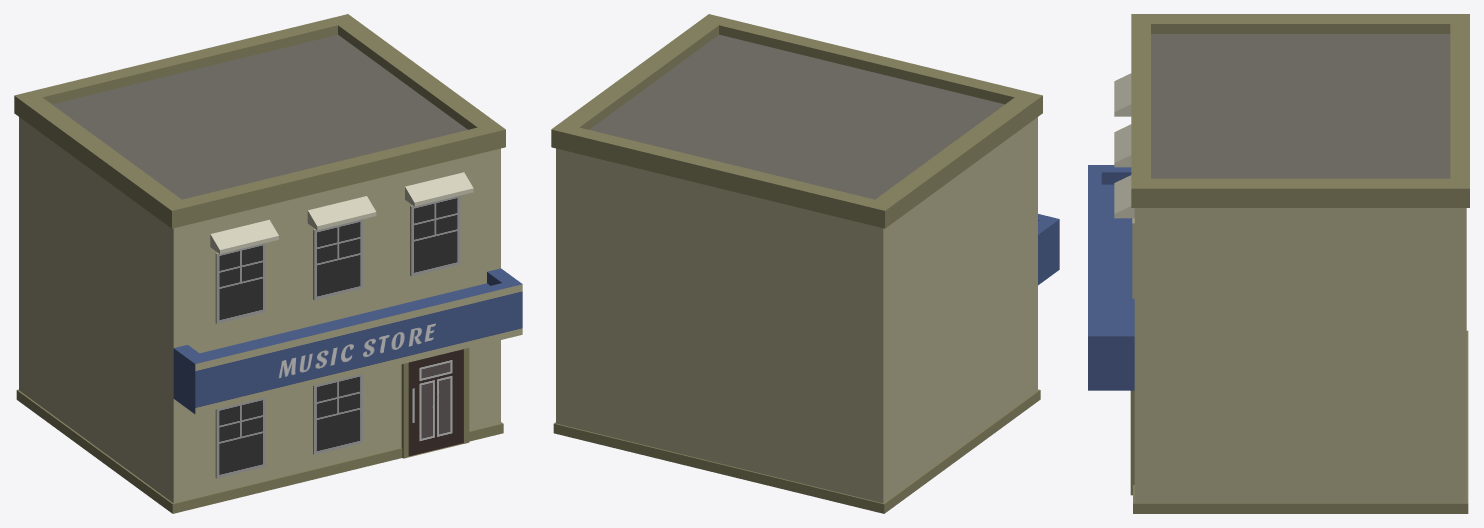
File: building-music-store.glb
The picture shows the model from 3 angles, left to right: view 1: azimuth 30°, elevation 25°; view 2: azimuth 150°, elevation 25°; view 3: azimuth 270°, elevation 25°; orthographic projection. The views are drawn at different scales.
Parts seen in each view (by area): view 1: Building_Music Store; view 2: Building_Music Store; view 3: Building_Music Store.
Boxes of the visible parts, x1=… form: Building_Music Store: x1=14, y1=14, x2=522, y2=513; Building_Music Store: x1=551, y1=14, x2=1059, y2=513; Building_Music Store: x1=1088, y1=14, x2=1469, y2=513.
Bounding box in the file's own units: 11.22 × 9.76 × 10.35.
Materials: 1 (1 with a texture image).
